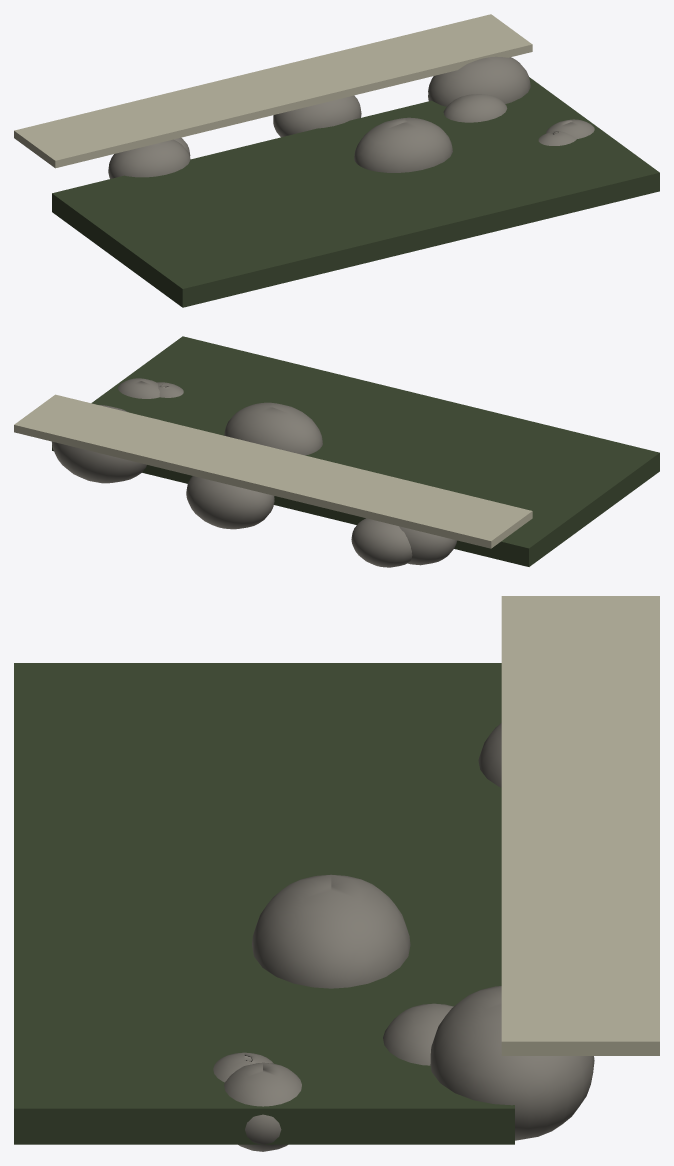
Rendered from f07-bank-boulder-shore.glb.
The picture shows the model from 3 angles, top to bottom: view 1: azimuth 30°, elevation 25°; view 2: azimuth 150°, elevation 25°; view 3: azimuth 270°, elevation 25°; orthographic projection. The views are drawn at different scales.
Parts seen in each view (by area): view 1: part9, part10, part2, part8, part7, part4, part6, part1, part0; view 2: part9, part10, part2, part4, part3, part8, part7, part1; view 3: part9, part10, part2, part8, part1, part6, part7, part0.
Boxes of the visible parts, bbox=[...] form: part9: bbox=[52, 77, 659, 307]; part10: bbox=[14, 14, 532, 168]; part2: bbox=[354, 117, 452, 172]; part8: bbox=[428, 56, 530, 106]; part7: bbox=[108, 139, 190, 178]; part4: bbox=[273, 95, 361, 137]; part6: bbox=[443, 94, 507, 122]; part1: bbox=[546, 119, 594, 138]; part0: bbox=[538, 131, 576, 145]; part9: bbox=[52, 336, 659, 566]; part10: bbox=[14, 394, 532, 548]; part2: bbox=[224, 402, 322, 455]; part4: bbox=[186, 476, 274, 529]; part3: bbox=[351, 518, 412, 567]; part8: bbox=[52, 405, 146, 483]; part7: bbox=[399, 526, 457, 565]; part1: bbox=[118, 378, 159, 398]; part9: bbox=[14, 663, 514, 1144]; part10: bbox=[501, 596, 659, 1055]; part2: bbox=[252, 874, 410, 988]; part8: bbox=[430, 986, 594, 1140]; part1: bbox=[224, 1062, 301, 1151]; part6: bbox=[383, 1003, 453, 1065]; part7: bbox=[478, 723, 501, 787]; part0: bbox=[213, 1052, 273, 1082].
Bounding box in the file's own units: 8038 × 1117 × 4900.
